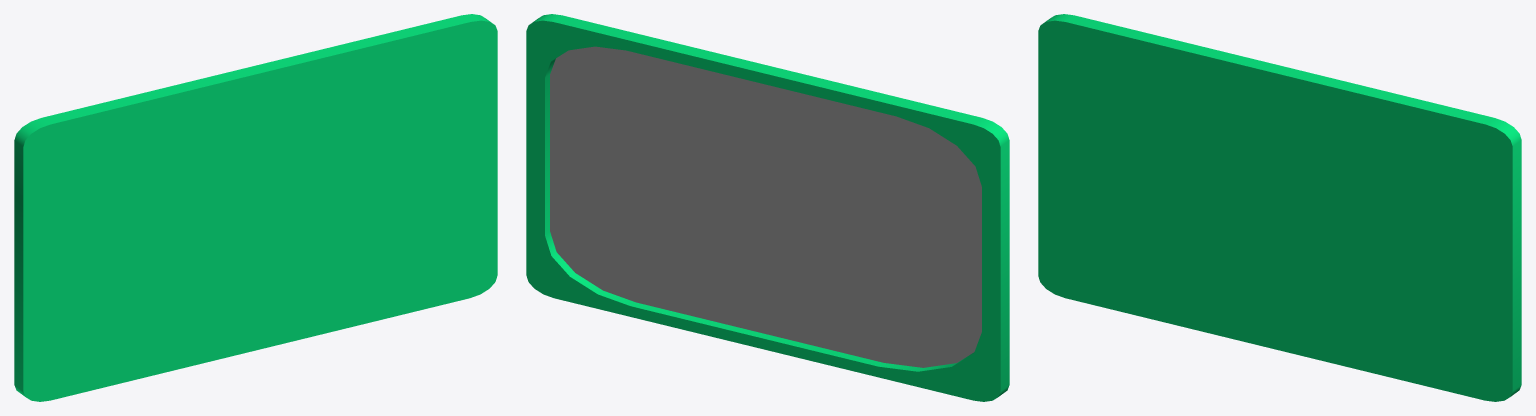
The model's file is Medium_Frame.fbx.
The picture shows the model from 3 angles, left to right: view 1: azimuth 30°, elevation 25°; view 2: azimuth 150°, elevation 25°; view 3: azimuth 330°, elevation 25°; orthographic projection.
Visible parts, largest first — view 1: Cube; view 2: Cube; view 3: Cube.
Part boxes in pixels (bbox=[...]): Cube: bbox=[14, 14, 497, 401]; Cube: bbox=[526, 14, 1009, 401]; Cube: bbox=[1038, 14, 1521, 401].
Bounding box in the file's own units: 691 × 385 × 22.85.
